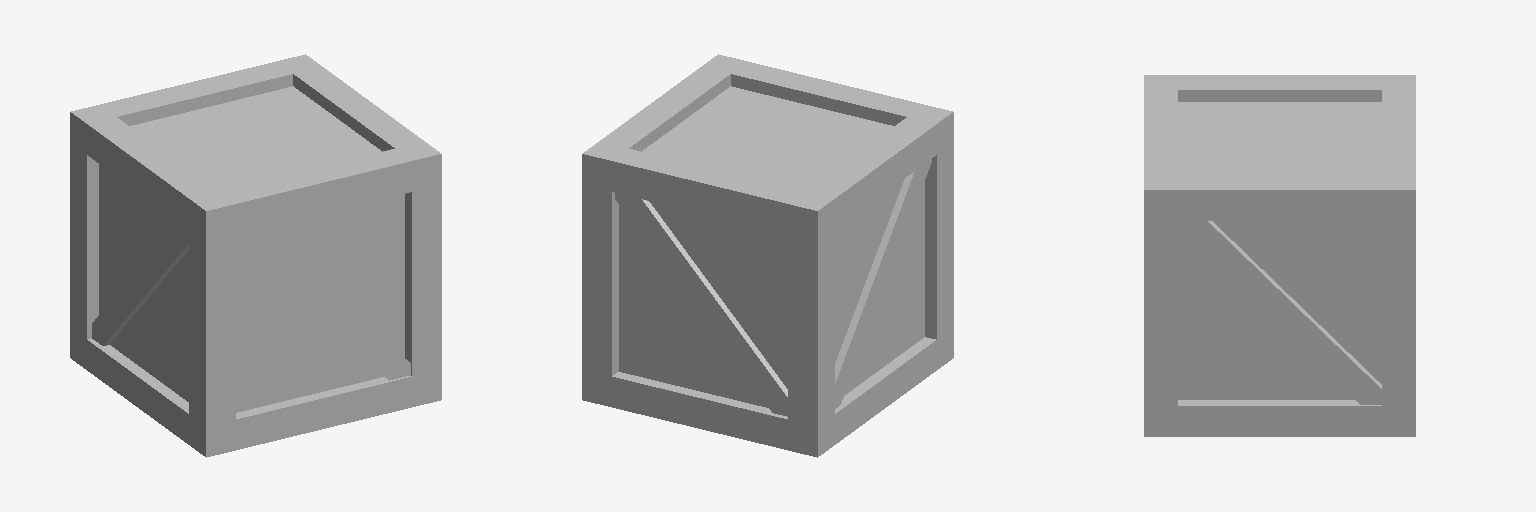
File: crate.obj
3 renders of one model, left to right at view 1: azimuth 30°, elevation 25°; view 2: azimuth 150°, elevation 25°; view 3: azimuth 270°, elevation 25°, orthographic.
Visible parts, largest first — view 1: Cube.004_Cube.005; view 2: Cube.004_Cube.005; view 3: Cube.004_Cube.005.
Boxes of the visible parts, x1,y1,x2,y2 form: Cube.004_Cube.005: [70, 54, 441, 457]; Cube.004_Cube.005: [582, 54, 953, 457]; Cube.004_Cube.005: [1144, 75, 1415, 436].
Size of the model in its own units: 2 by 2 by 2.